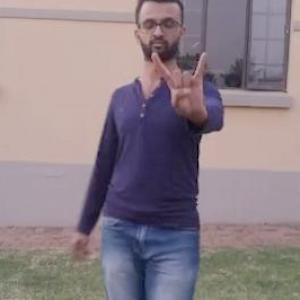takeoff-hand: (148, 42, 214, 127)
